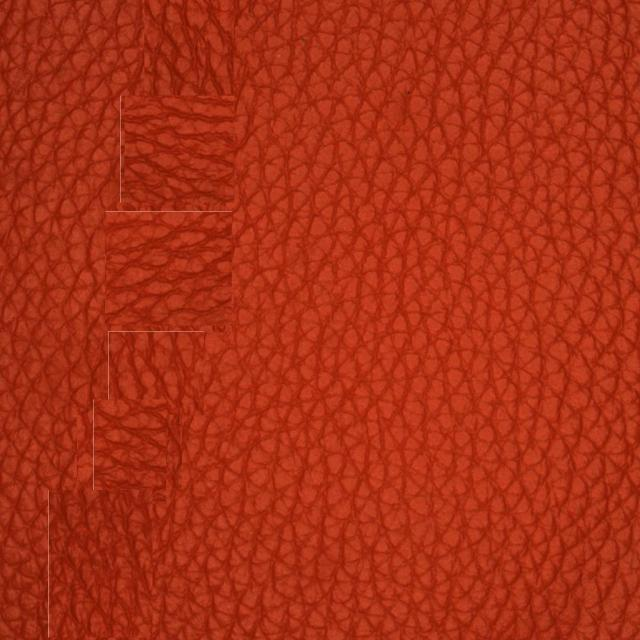Healed Injury: (83, 69, 277, 346), (48, 362, 225, 548)
